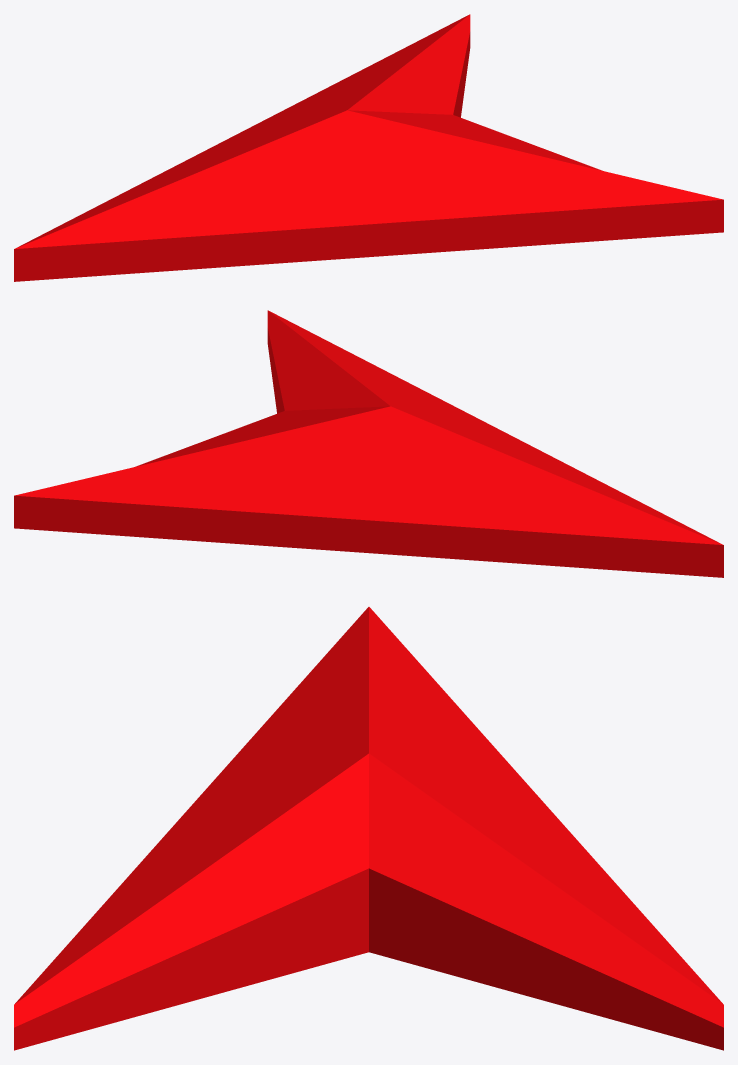
File: GuideArrow.fbx
3 renders of one model, top to bottom at view 1: azimuth 30°, elevation 25°; view 2: azimuth 150°, elevation 25°; view 3: azimuth 270°, elevation 25°, orthographic. The views are drawn at different scales.
Visible parts, largest first — view 1: Cube; view 2: Cube; view 3: Cube.
Part boxes in pixels (x1,y1,x2,y2): Cube: [14, 14, 723, 281]; Cube: [14, 310, 723, 577]; Cube: [14, 607, 723, 1050].
Size of the model in its own units: 266 by 200 by 39.3.
